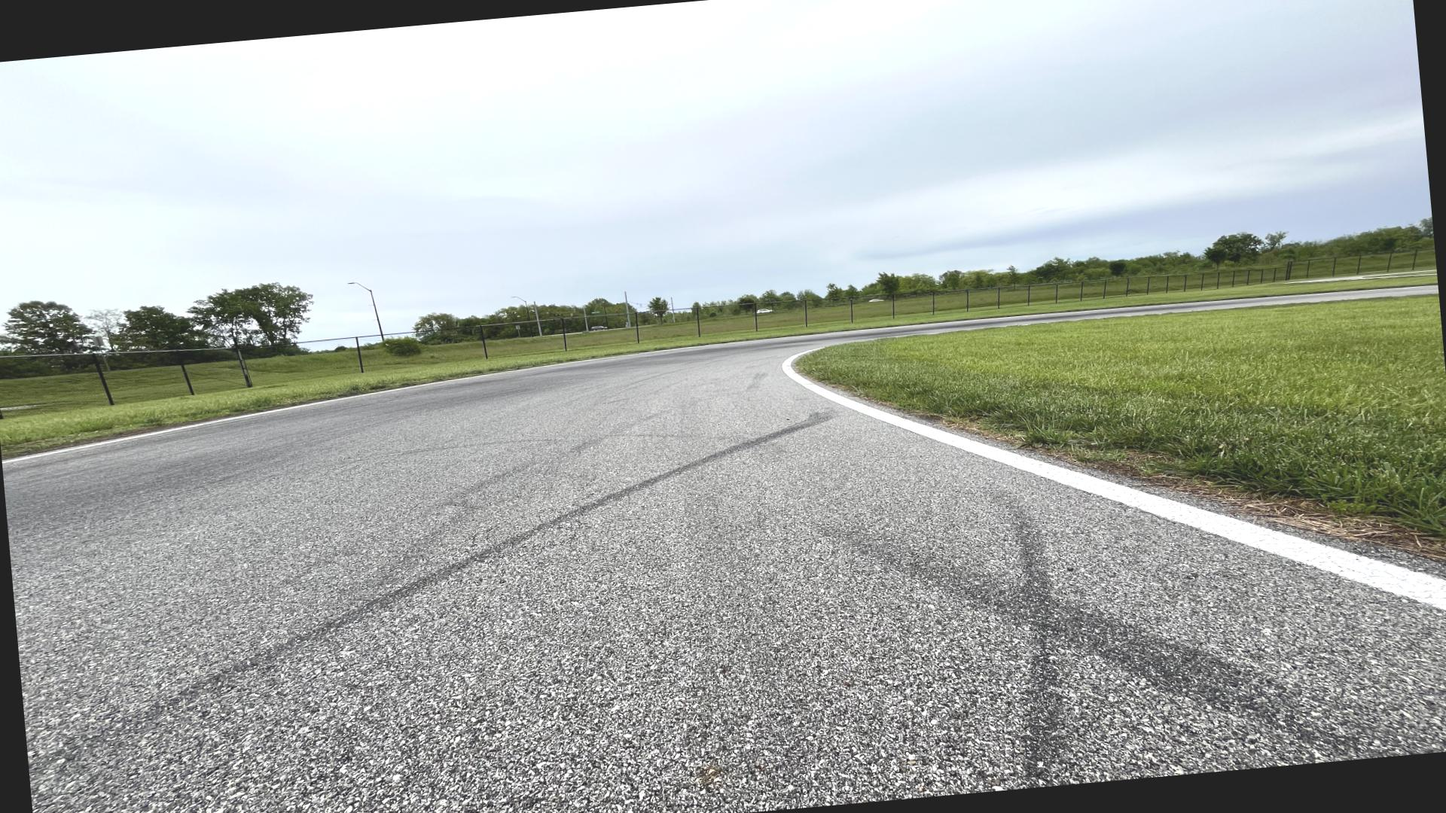white-line: (780, 347, 1445, 612), (2, 339, 772, 464)
